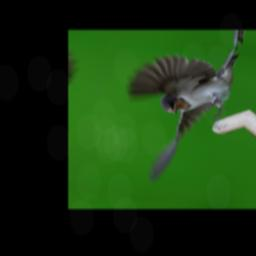Swallow: (98, 36, 245, 188)
